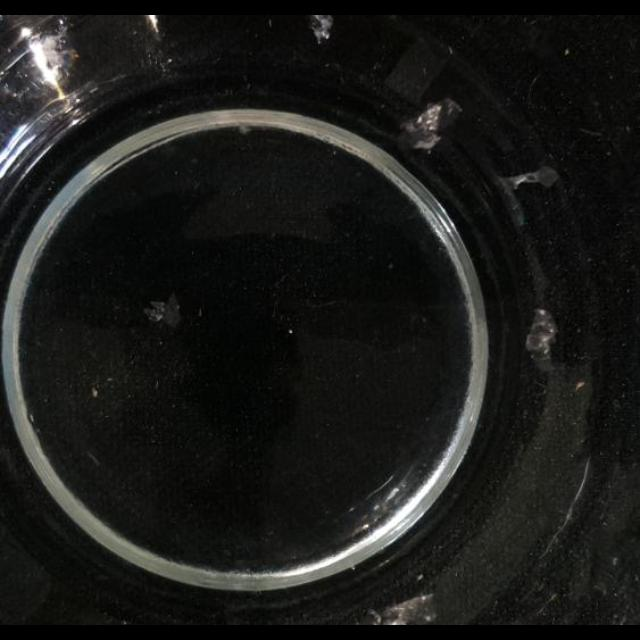Fibre: (398, 98, 462, 152), (368, 594, 438, 624), (524, 308, 558, 362), (144, 293, 183, 327), (510, 166, 560, 190), (308, 15, 334, 43)
microbeads: (86, 452, 102, 468), (198, 307, 204, 317)
